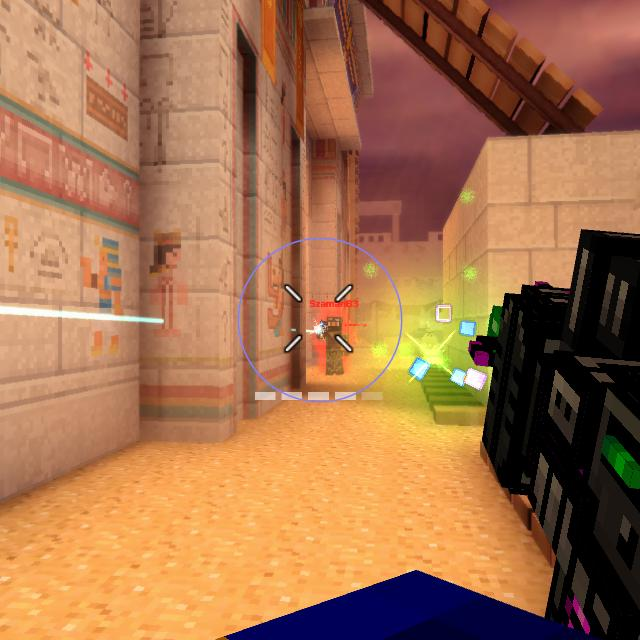Enemy: (315, 316, 349, 377)
